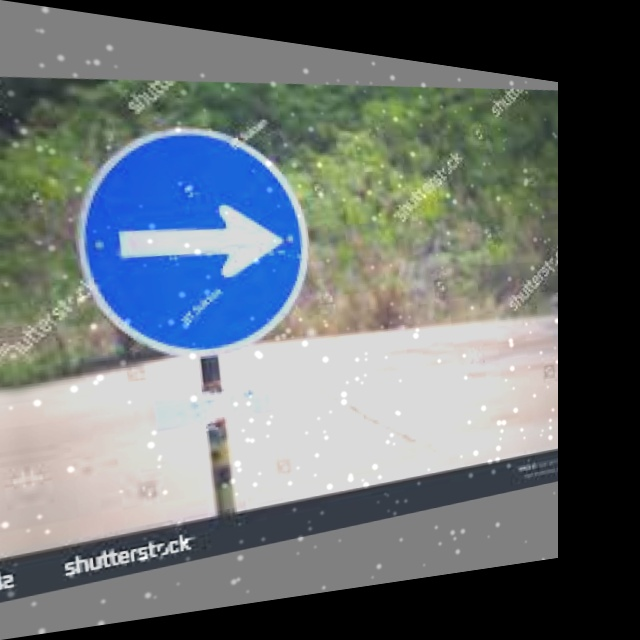Compulsory_Turn_Right: (74, 103, 319, 368)
